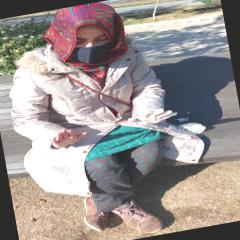gloved: (130, 107, 176, 128)
not-gloved: (51, 126, 85, 148)
